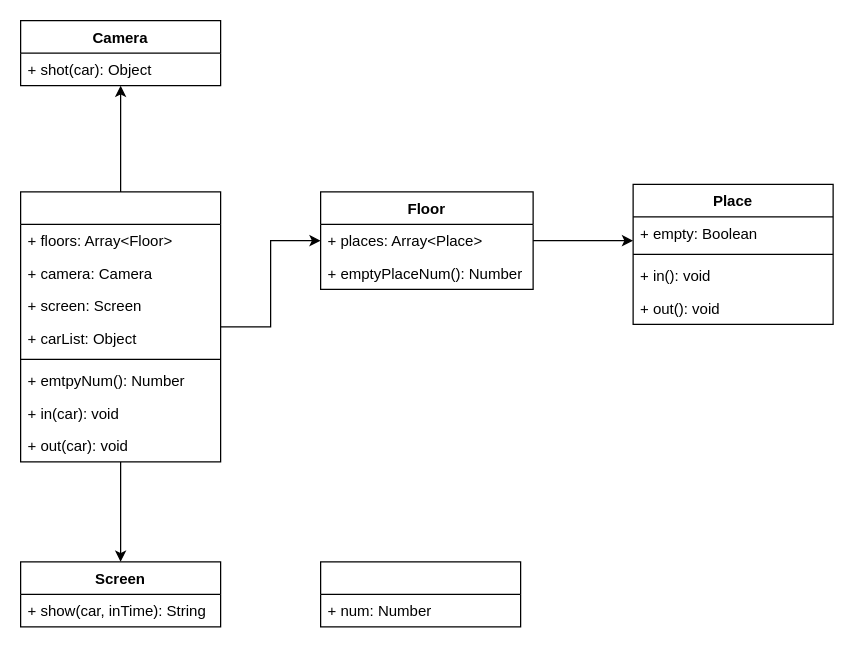
This 854x648 diagram has some shape labels left out. The box of each missing label's shape, as (x1, y1, x2, y2) in pixels:
Car: (319, 561, 521, 627)
Park: (19, 191, 221, 462)
